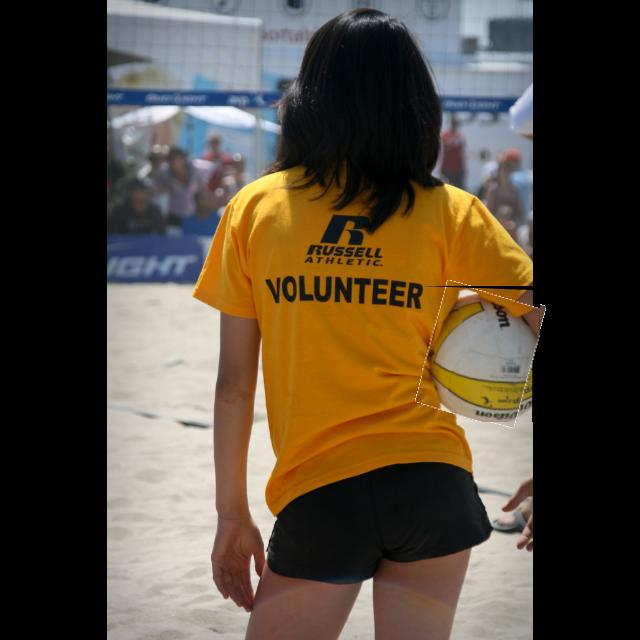Football: (422, 286, 540, 422)
